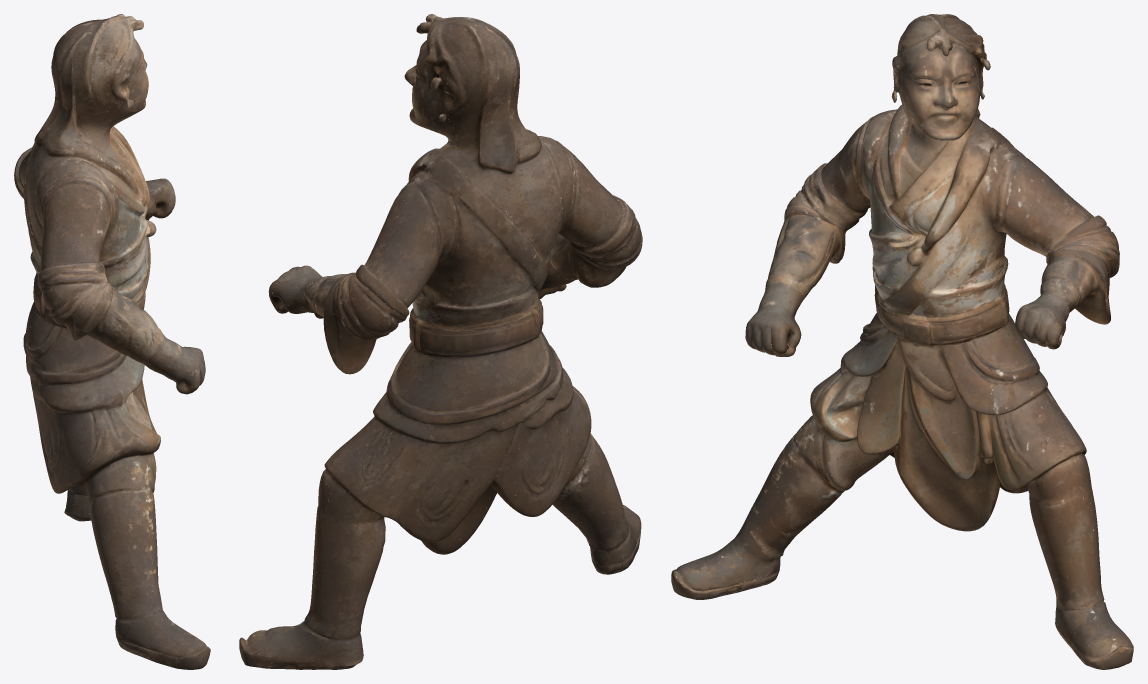
The model's file is f4-lion-groom.glb.
The picture shows the model from 3 angles, left to right: view 1: azimuth 30°, elevation 25°; view 2: azimuth 150°, elevation 25°; view 3: azimuth 270°, elevation 25°; orthographic projection. The views are drawn at different scales.
Parts seen in each view (by area): view 1: tripo_node_9cc0bea8-f75f-420b-bdd4-1219bda67502; view 2: tripo_node_9cc0bea8-f75f-420b-bdd4-1219bda67502; view 3: tripo_node_9cc0bea8-f75f-420b-bdd4-1219bda67502.
Boxes of the visible parts, x1,y1,x2,y2 form: tripo_node_9cc0bea8-f75f-420b-bdd4-1219bda67502: (14, 14, 210, 669); tripo_node_9cc0bea8-f75f-420b-bdd4-1219bda67502: (239, 14, 642, 669); tripo_node_9cc0bea8-f75f-420b-bdd4-1219bda67502: (671, 14, 1133, 669).
Size of the model in its own units: 0.4365 by 1 by 0.711.
1 material, 1 textured.
